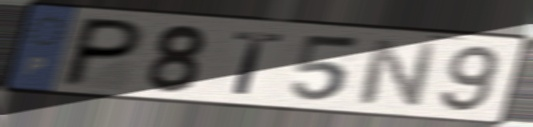5: (287, 35, 364, 103)
8: (144, 22, 212, 95)
9: (435, 43, 504, 114)
N: (355, 37, 440, 110)
P: (55, 15, 150, 89)
T: (230, 29, 288, 97)
